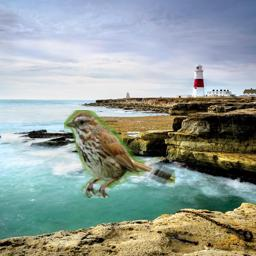Sparrow: (64, 110, 175, 198)
